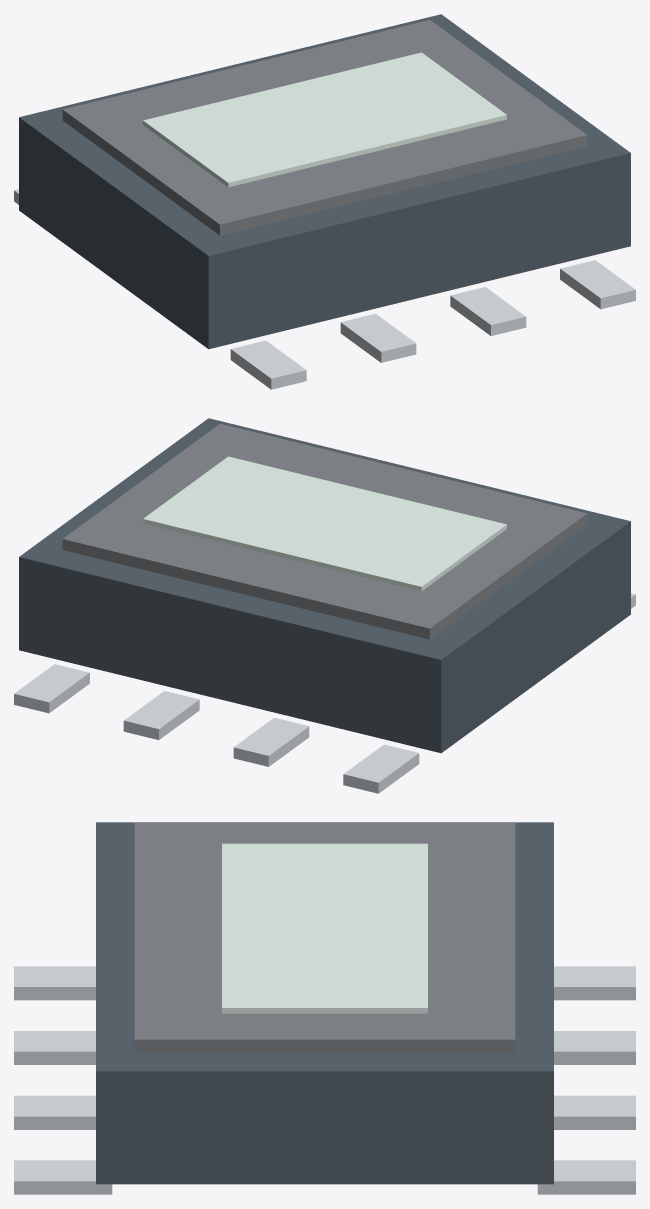
3 renders of one model, top to bottom at view 1: azimuth 30°, elevation 25°; view 2: azimuth 150°, elevation 25°; view 3: azimuth 270°, elevation 25°, orthographic. The views are drawn at different scales.
Visible parts, largest first — view 1: L122_black_chip__PSMAT__black_chip, L122_graphite__PSMAT__graphite, L122_silkscreen__PSMAT__silkscreen, L122_tin__PSMAT__tin; view 2: L122_black_chip__PSMAT__black_chip, L122_graphite__PSMAT__graphite, L122_silkscreen__PSMAT__silkscreen, L122_tin__PSMAT__tin; view 3: L122_black_chip__PSMAT__black_chip, L122_graphite__PSMAT__graphite, L122_silkscreen__PSMAT__silkscreen, L122_tin__PSMAT__tin.
Part boxes in pixels (x1,y1,x2,y2): L122_black_chip__PSMAT__black_chip: (19,14,630,349); L122_graphite__PSMAT__graphite: (62,20,587,235); L122_silkscreen__PSMAT__silkscreen: (143,52,506,187); L122_tin__PSMAT__tin: (14,189,635,389); L122_black_chip__PSMAT__black_chip: (19,418,630,753); L122_graphite__PSMAT__graphite: (62,424,587,639); L122_silkscreen__PSMAT__silkscreen: (143,456,506,591); L122_tin__PSMAT__tin: (14,593,635,793); L122_black_chip__PSMAT__black_chip: (96,822,553,1184); L122_graphite__PSMAT__graphite: (134,823,515,1052); L122_silkscreen__PSMAT__silkscreen: (222,843,427,1013); L122_tin__PSMAT__tin: (14,966,635,1194).
Size of the model in its own units: 0.018 by 0.00543 by 0.019.
